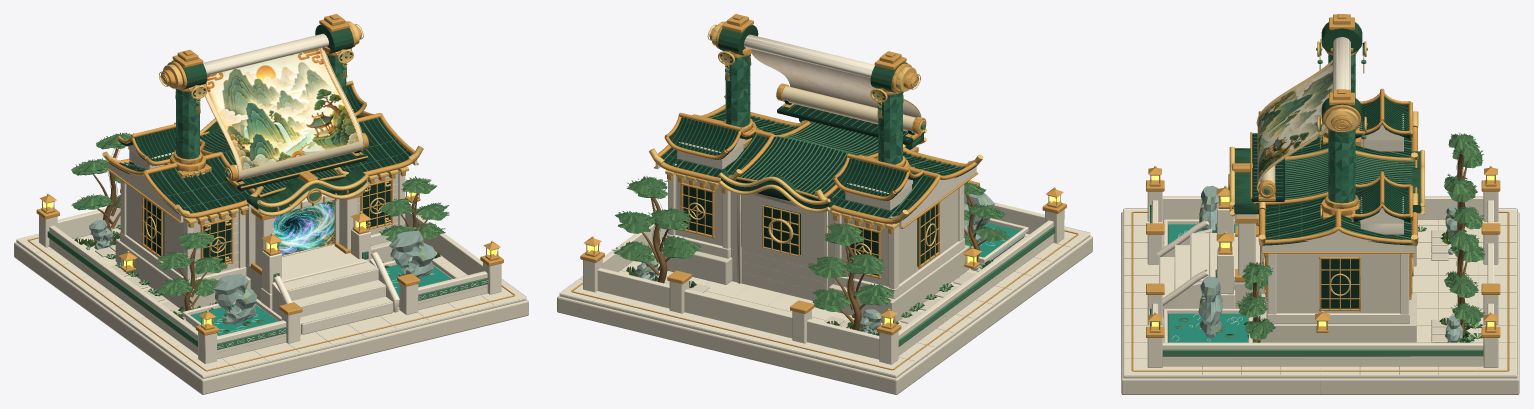
File: relic-lod0-8f4afb6c1209.glb
3 renders of one model, left to right at view 1: azimuth 30°, elevation 25°; view 2: azimuth 150°, elevation 25°; view 3: azimuth 270°, elevation 25°, orthographic. The views are drawn at different scales.
Parts seen in each view (by area): view 1: GEO-export-MAT-relic-cream.019, GEO-export-MAT-relic-ivory.019, GEO-export-MAT-relic-rolled-front-v16.008, GEO-export-MAT-relic-gold.019, GEO-export-MAT-relic-jade-dark.019, GEO-export-MAT-relic-v20-needle-mid, GEO-export-MAT-relic-jade-light.019, GEO-export-MAT-relic-gold-light.019, GEO-export-MAT-relic-rock.019, GEO-export-MAT-relic-jade.019, GEO-export-MAT-relic-v17-portal-energy.006, GEO-export-MAT-relic-jade-mid.019 (+7 smaller); view 2: GEO-export-MAT-relic-cream.019, GEO-export-MAT-relic-ivory.019, GEO-export-MAT-relic-jade-dark.019, GEO-export-MAT-relic-gold.019, GEO-export-MAT-relic-v20-needle-mid, GEO-export-MAT-relic-jade-light.019, GEO-export-MAT-relic-gold-light.019, GEO-export-MAT-relic-scroll-painted-back.012, GEO-export-MAT-relic-jade-mid.019, GEO-export-MAT-relic-v20-needle-lit, GEO-export-MAT-relic-jade.019, GEO-export-MAT-relic-wood.019 (+8 smaller); view 3: GEO-export-MAT-relic-cream.019, GEO-export-MAT-relic-ivory.019, GEO-export-MAT-relic-gold.019, GEO-export-MAT-relic-jade-dark.019, GEO-export-MAT-relic-jade-light.019, GEO-export-MAT-relic-v20-needle-mid, GEO-export-MAT-relic-rolled-front-v16.008, GEO-export-MAT-relic-jade-mid.019, GEO-export-MAT-relic-gold-light.019, GEO-export-MAT-relic-jade.019, GEO-export-MAT-relic-rock.019, GEO-export-MAT-relic-v20-needle-lit (+7 smaller).
Part boxes in pixels (x1,y1,x2,y2): GEO-export-MAT-relic-cream.019: (16, 33, 526, 378); GEO-export-MAT-relic-ivory.019: (14, 109, 528, 394); GEO-export-MAT-relic-rolled-front-v16.008: (203, 47, 363, 179); GEO-export-MAT-relic-gold.019: (27, 14, 515, 371); GEO-export-MAT-relic-jade-dark.019: (108, 85, 411, 263); GEO-export-MAT-relic-v20-needle-mid: (71, 132, 449, 296); GEO-export-MAT-relic-jade-light.019: (47, 55, 488, 349); GEO-export-MAT-relic-gold-light.019: (42, 21, 498, 319); GEO-export-MAT-relic-rock.019: (86, 220, 450, 327); GEO-export-MAT-relic-jade.019: (171, 24, 366, 212); GEO-export-MAT-relic-v17-portal-energy.006: (273, 200, 334, 255); GEO-export-MAT-relic-jade-mid.019: (119, 85, 405, 212); GEO-export-MAT-relic-cream.019: (559, 34, 1090, 378); GEO-export-MAT-relic-ivory.019: (557, 142, 1092, 394); GEO-export-MAT-relic-jade-dark.019: (661, 100, 976, 275); GEO-export-MAT-relic-gold.019: (571, 14, 1078, 370); GEO-export-MAT-relic-v20-needle-mid: (612, 176, 1008, 311); GEO-export-MAT-relic-jade-light.019: (664, 54, 1055, 346); GEO-export-MAT-relic-gold-light.019: (585, 21, 1060, 318); GEO-export-MAT-relic-scroll-painted-back.012: (751, 49, 919, 117); GEO-export-MAT-relic-jade-mid.019: (665, 116, 965, 217); GEO-export-MAT-relic-v20-needle-lit: (616, 179, 1007, 311); GEO-export-MAT-relic-jade.019: (718, 25, 923, 208); GEO-export-MAT-relic-wood.019: (641, 194, 986, 330); GEO-export-MAT-relic-cream.019: (1123, 37, 1517, 378); GEO-export-MAT-relic-ivory.019: (1121, 114, 1519, 394); GEO-export-MAT-relic-gold.019: (1131, 14, 1509, 371); GEO-export-MAT-relic-jade-dark.019: (1251, 98, 1414, 308); GEO-export-MAT-relic-jade-light.019: (1150, 48, 1483, 356); GEO-export-MAT-relic-v20-needle-mid: (1236, 133, 1485, 339); GEO-export-MAT-relic-rolled-front-v16.008: (1257, 61, 1332, 184); GEO-export-MAT-relic-jade-mid.019: (1265, 96, 1411, 239); GEO-export-MAT-relic-gold-light.019: (1149, 38, 1496, 321); GEO-export-MAT-relic-jade.019: (1234, 22, 1421, 214); GEO-export-MAT-relic-rock.019: (1167, 185, 1473, 342); GEO-export-MAT-relic-v20-needle-lit: (1235, 134, 1483, 339).
Bounding box in the file's own units: 10 × 7.16 × 10.
Materials: 32 (3 with a texture image).
